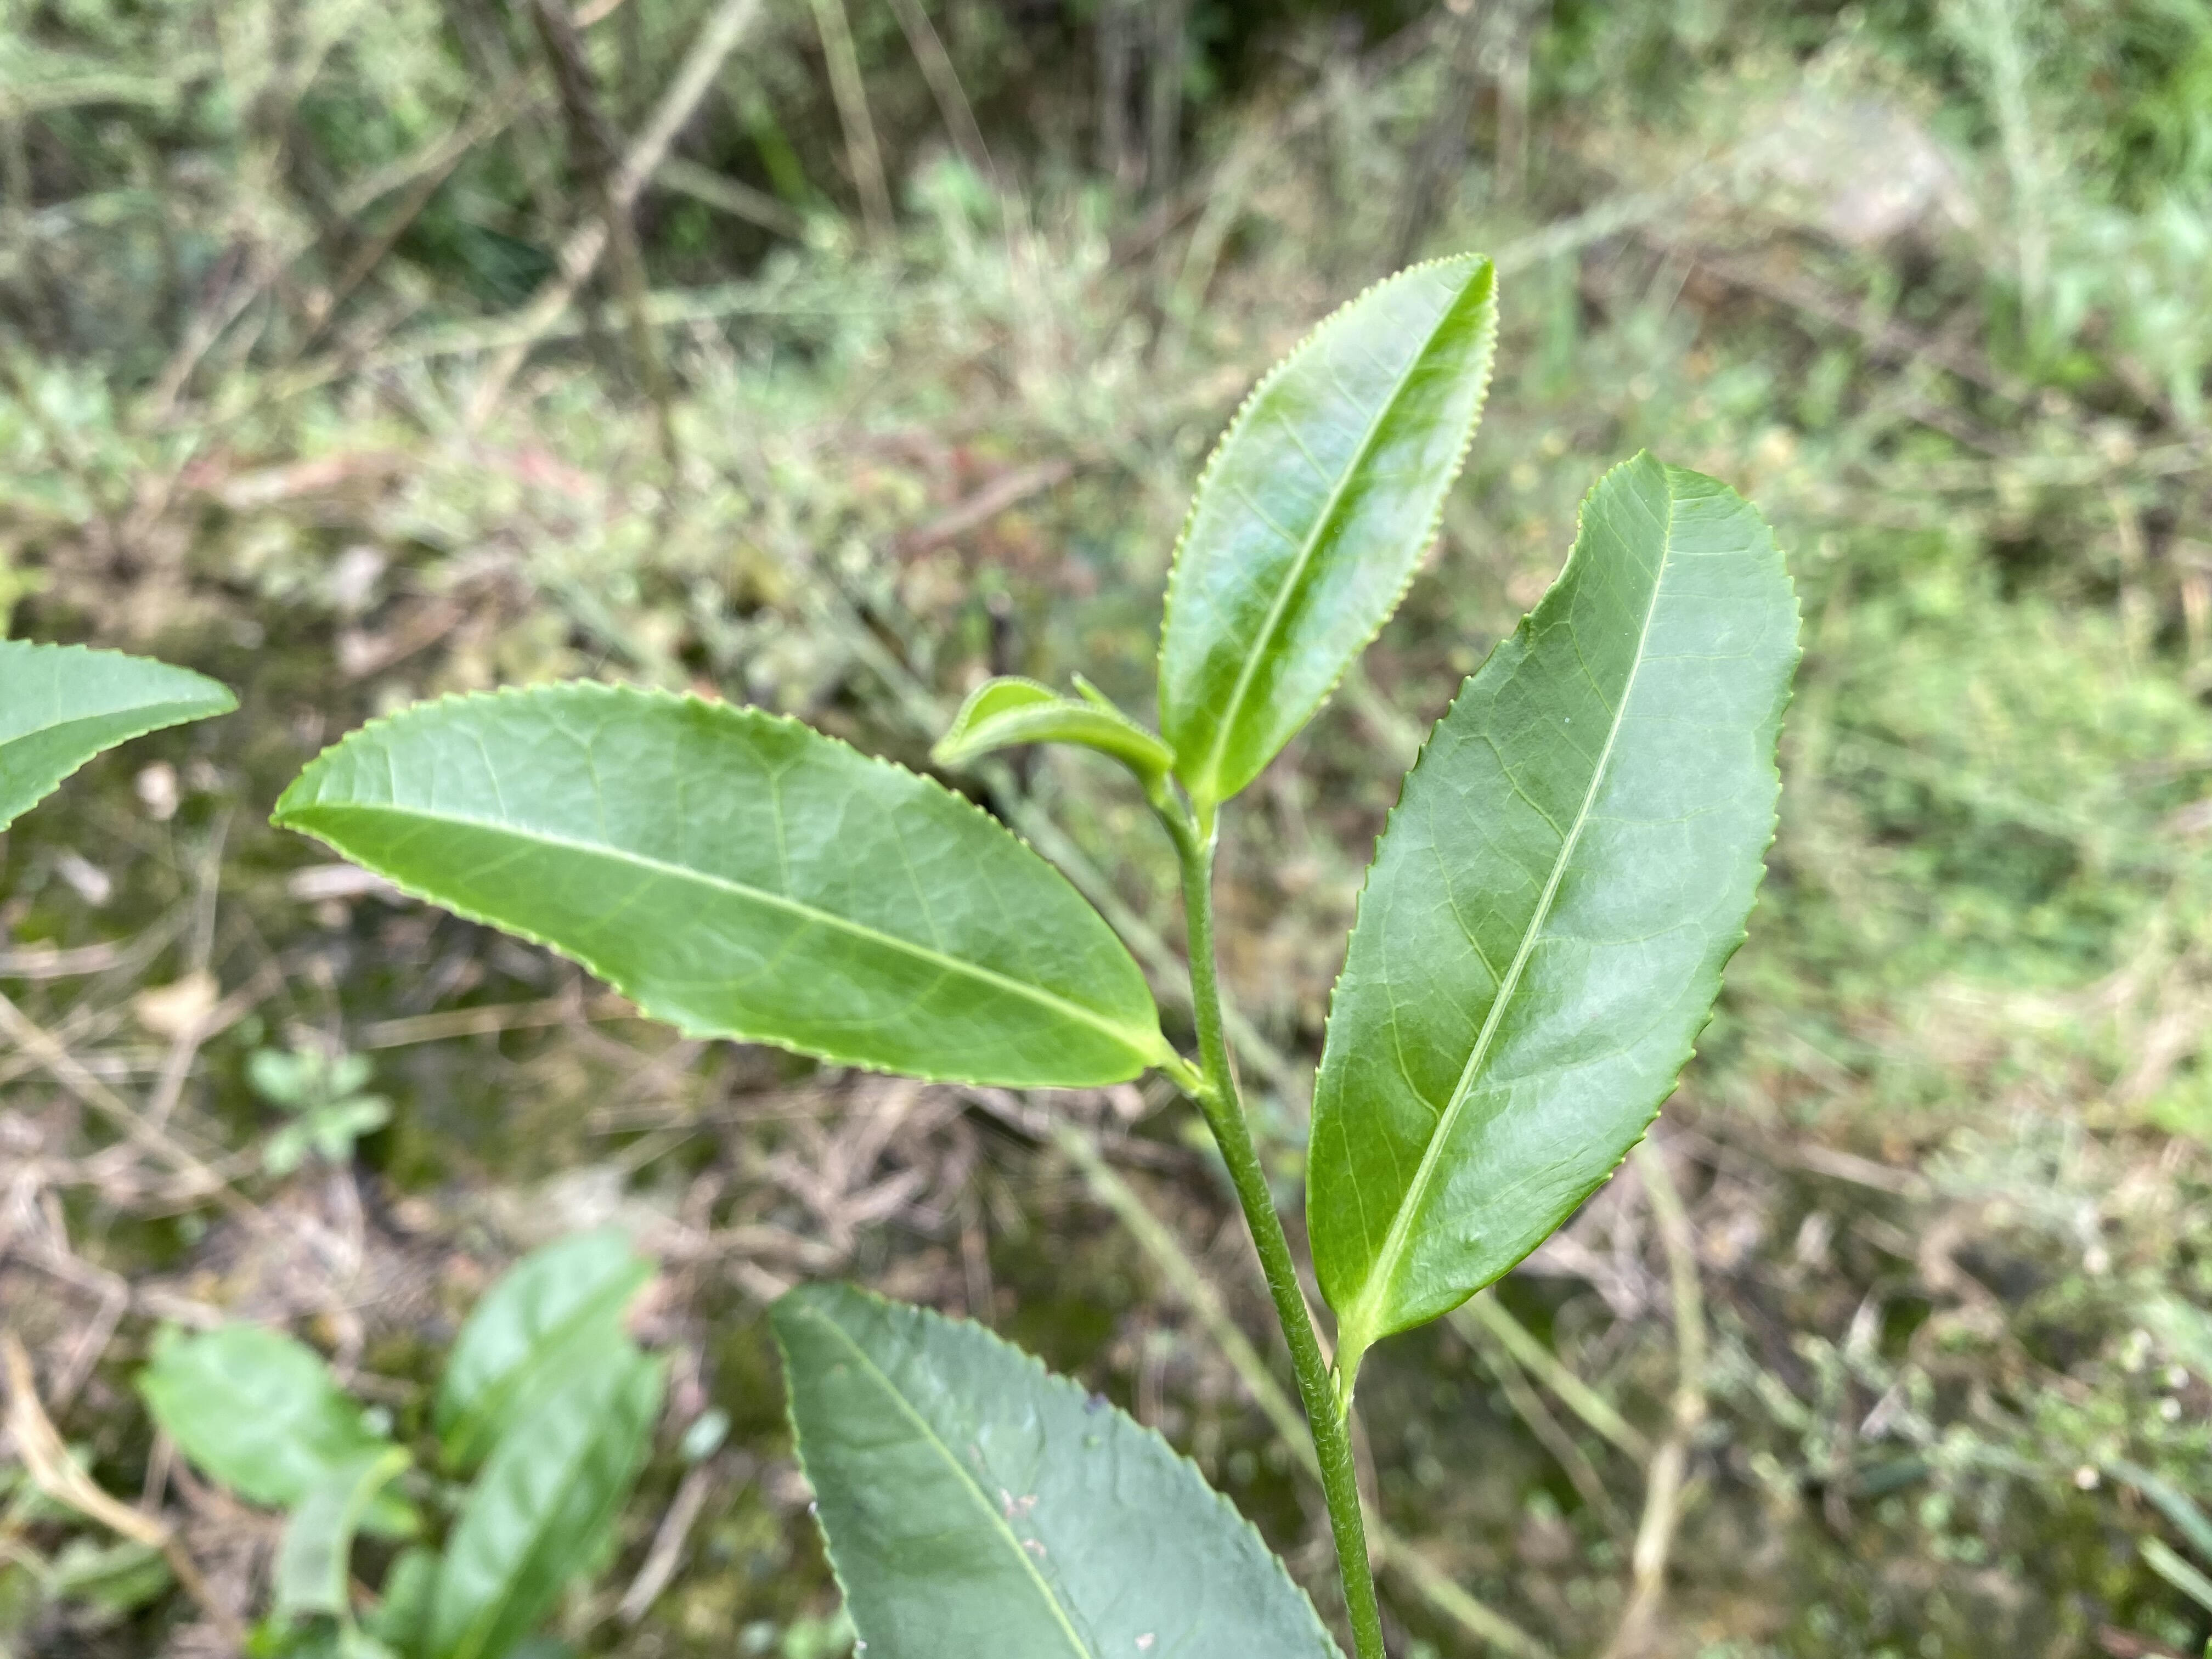healthy: (1301, 450, 1808, 1335), (265, 673, 1163, 1091), (1155, 251, 1501, 816)
tanju_low: (763, 1277, 1346, 1656)
